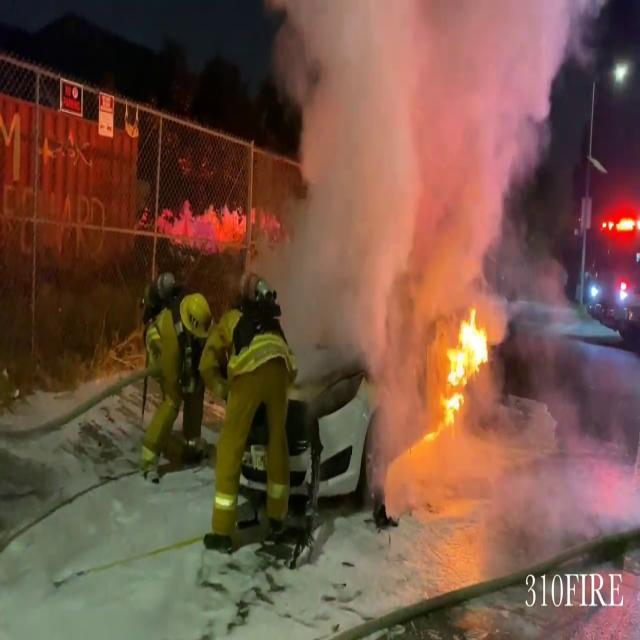Fire: (431, 304, 495, 422)
Smoke: (266, 0, 576, 323)
